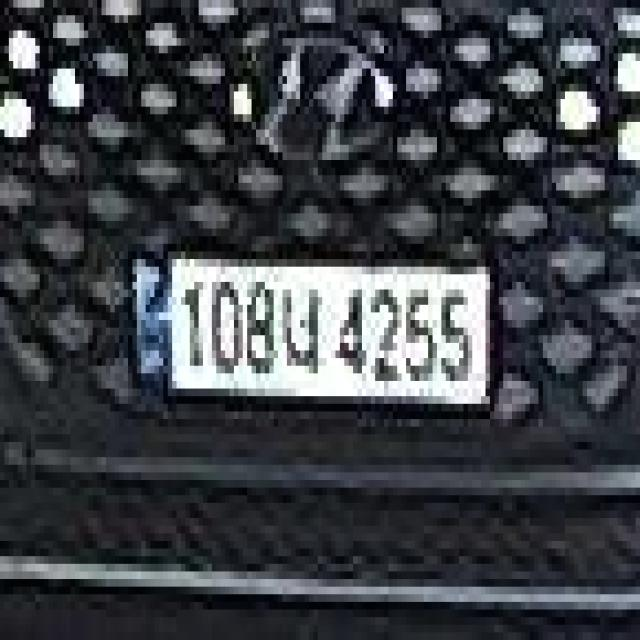illegal_plate: (130, 242, 498, 428)
